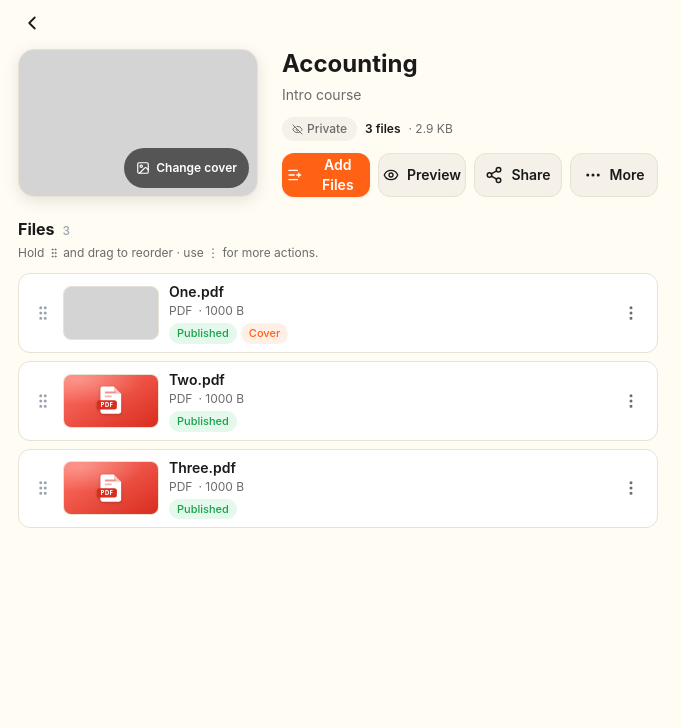
Test: Creator playlist page — playlist More menu › Make public (when private) needs no confirmation
Click the button with test id "action-menu-button".
click(614, 175)  # box [570, 153, 658, 197]
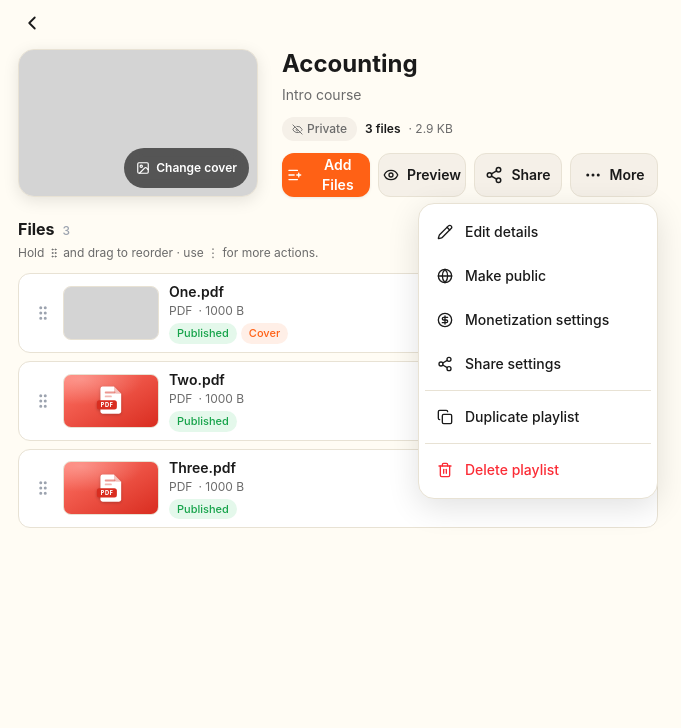
Click the menu item "Make public".
click(538, 276)  # box [425, 254, 651, 298]
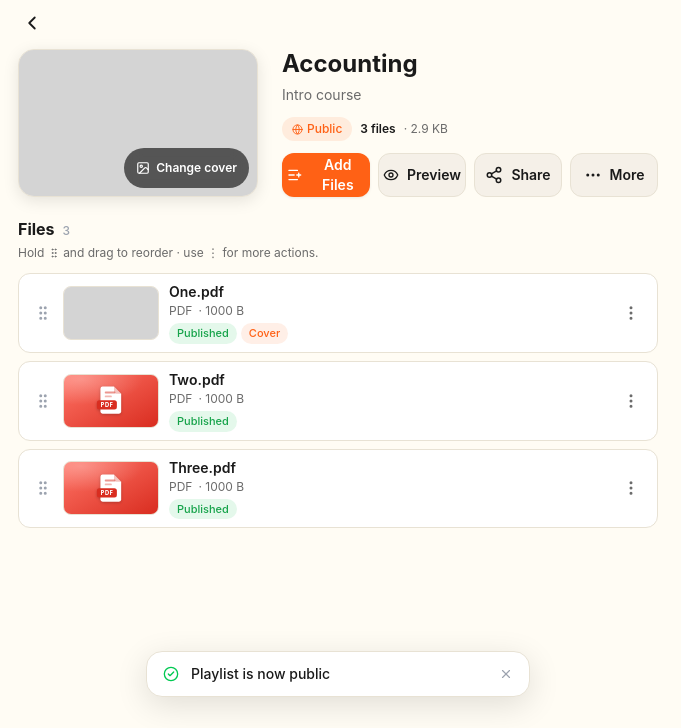
Now the element with test id "playlist-visibility" reads "Public", box [307, 121, 342, 136]
